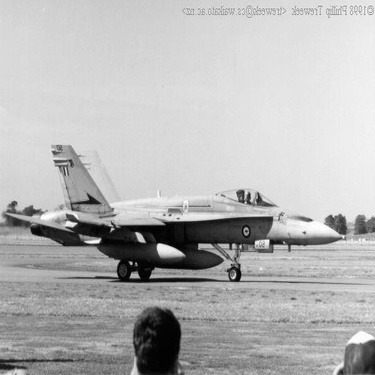airplane: (1, 132, 353, 292)
